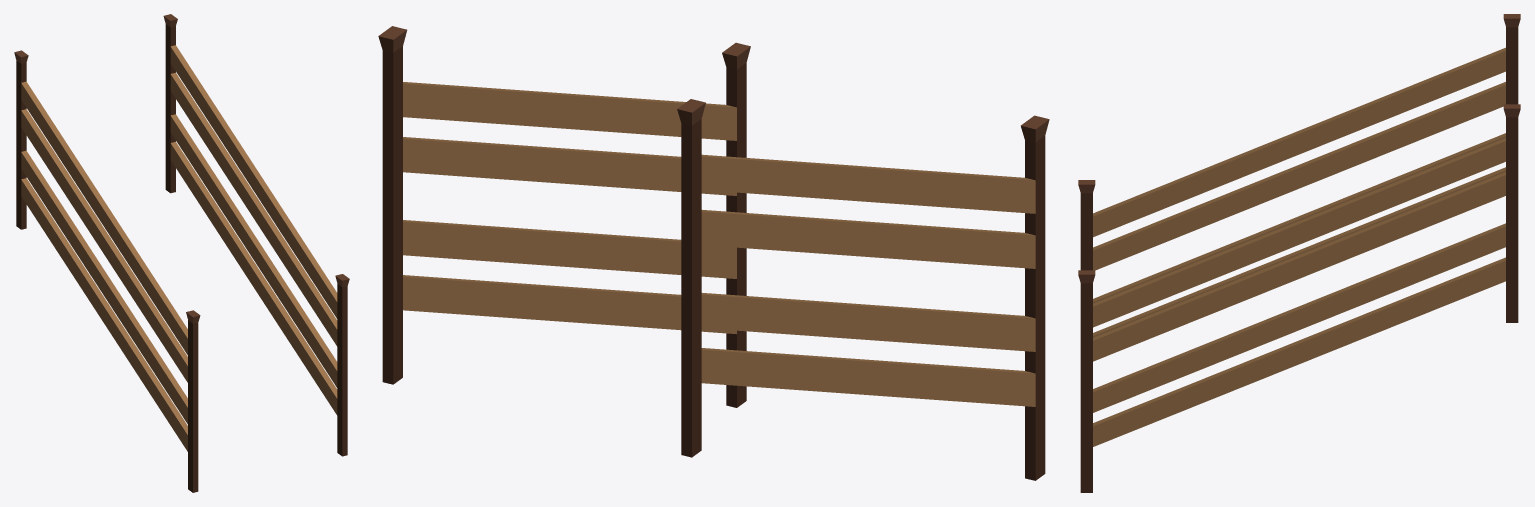
Rendered from StairRailLongV1.fbx.
3 renders of one model, left to right at view 1: azimuth 30°, elevation 25°; view 2: azimuth 150°, elevation 25°; view 3: azimuth 270°, elevation 25°, orthographic. The views are drawn at different scales.
Parts seen in each view (by area): view 1: StairRailLongV1; view 2: StairRailLongV1; view 3: StairRailLongV1.
Boxes of the visible parts, left/top/right/bottom form: StairRailLongV1: left=14, top=14, right=349, bottom=492; StairRailLongV1: left=378, top=26, right=1049, bottom=480; StairRailLongV1: left=1078, top=14, right=1520, bottom=492.
Bounding box in the file's own units: 97.98 × 186 × 193.
